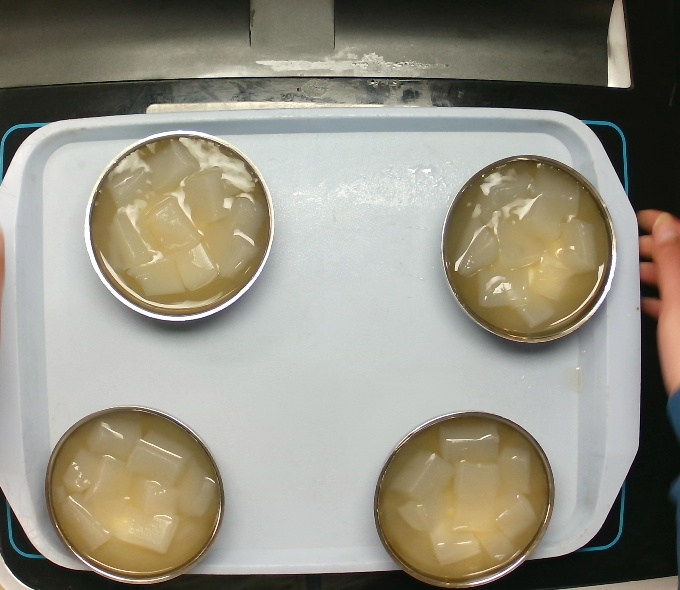wcq-YeGuoLi: (425, 151, 625, 352), (75, 129, 280, 320), (45, 401, 228, 582), (375, 406, 557, 583)
